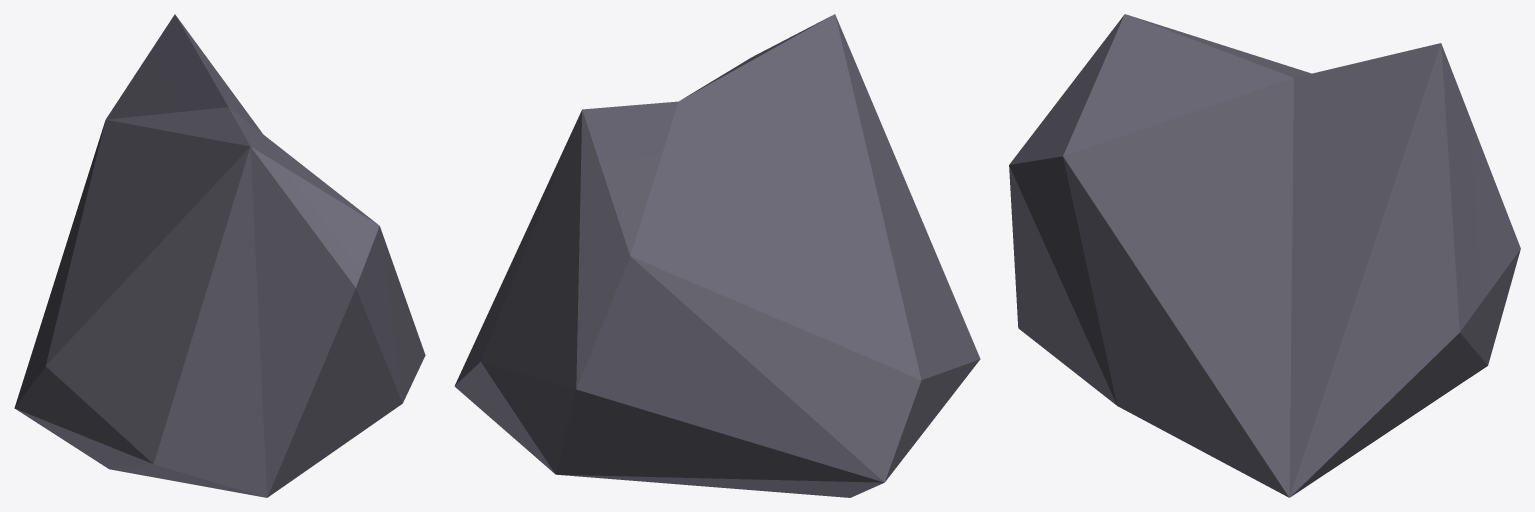
File: smallrock5.fbx
3 views of the same model, side by side, from view 1: azimuth 30°, elevation 25°; view 2: azimuth 150°, elevation 25°; view 3: azimuth 270°, elevation 25° (orthographic). The views are drawn at different scales.
Visible parts, largest first — view 1: rock.004; view 2: rock.004; view 3: rock.004.
Boxes of the visible parts, x1,y1,x2,y2 form: rock.004: (14, 14, 425, 497); rock.004: (454, 14, 980, 497); rock.004: (1009, 14, 1520, 497).
Size of the model in its own units: 52.64 by 49.39 by 55.33.
